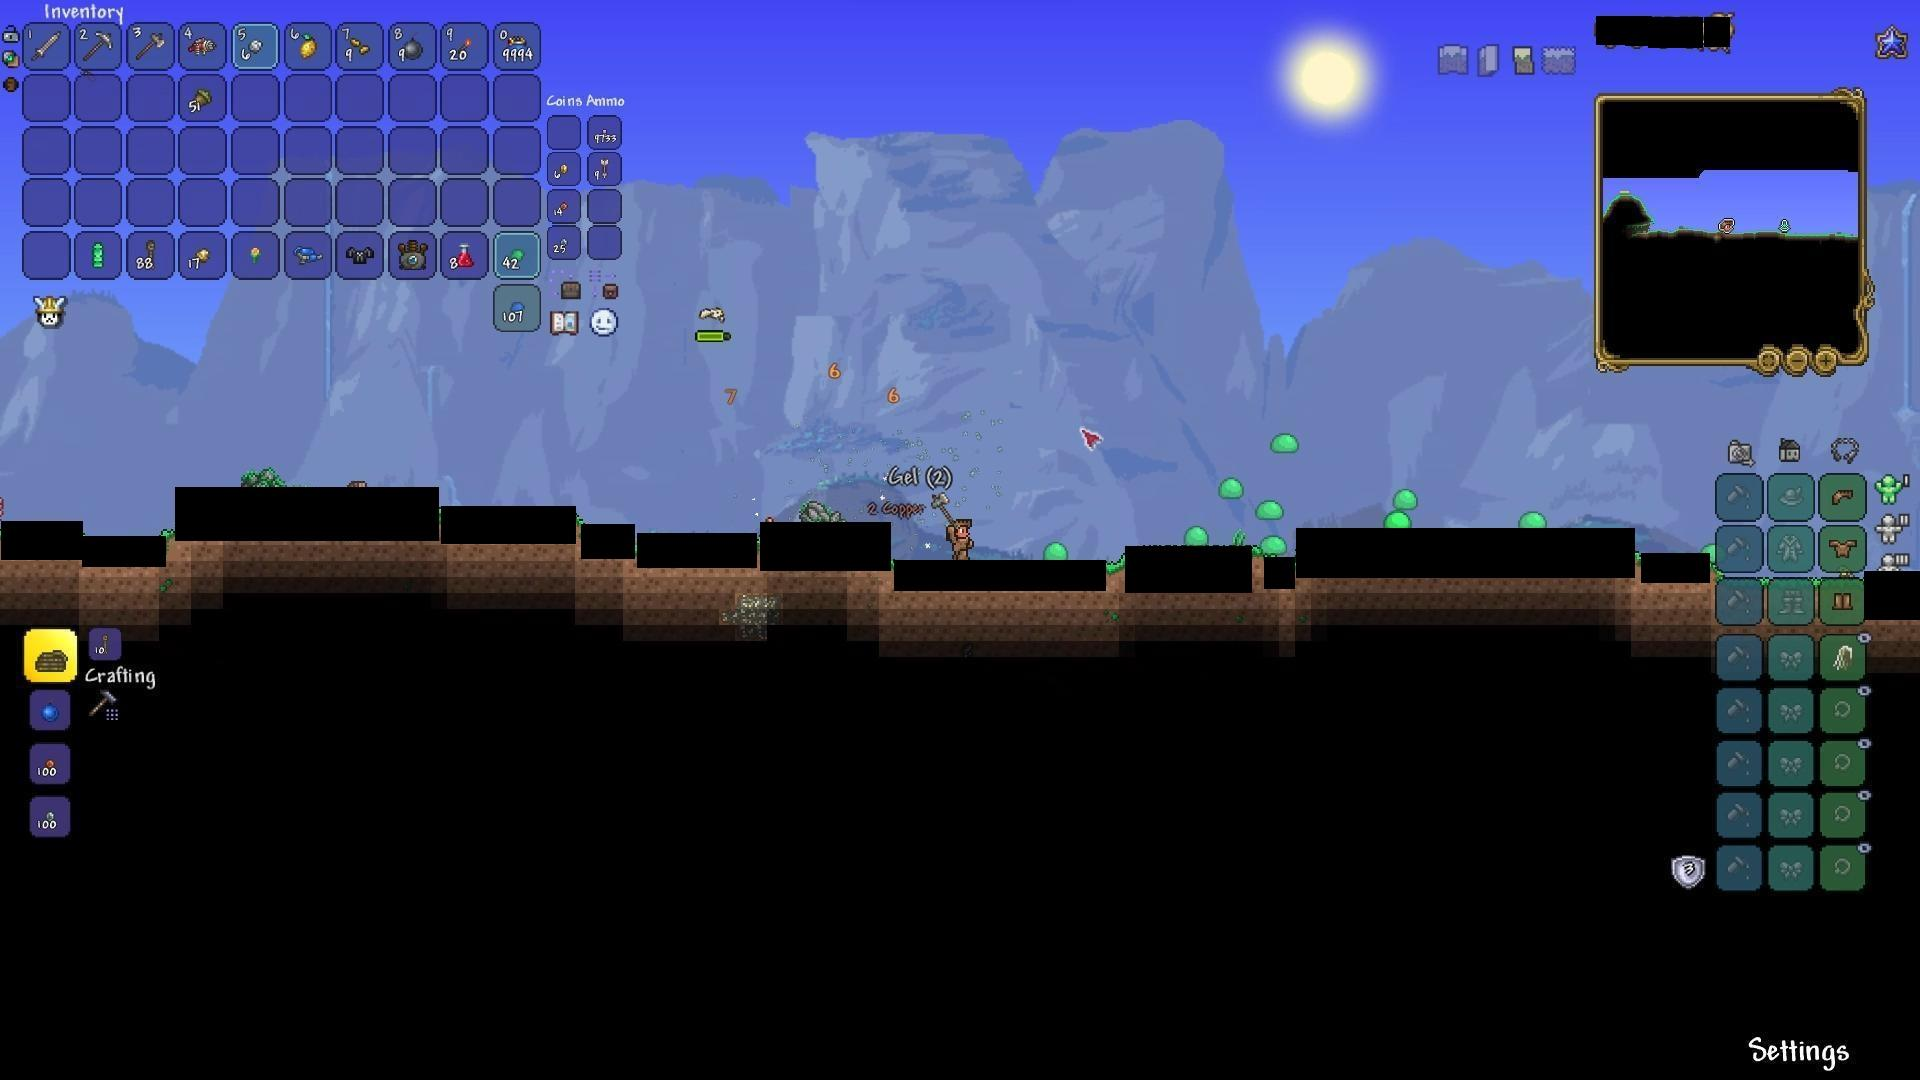breastplate: (1829, 537, 1859, 558)
helmet: (1828, 483, 1858, 510)
legs: (1832, 588, 1855, 616)
slime: (1378, 512, 1423, 537), (1390, 481, 1424, 510), (1253, 530, 1291, 554), (1180, 524, 1213, 549), (1696, 537, 1724, 566), (1253, 495, 1284, 520), (1518, 508, 1548, 533), (1042, 541, 1073, 564), (1269, 431, 1300, 455), (1215, 477, 1246, 500)
